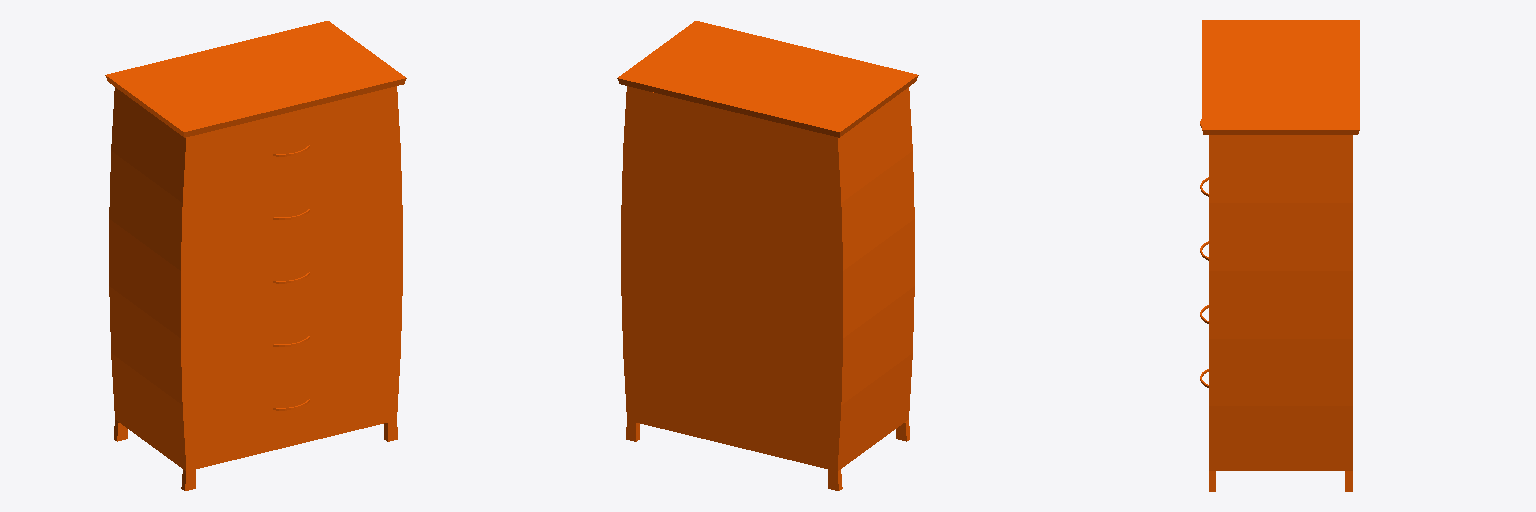
URDF robot description (Dresser_1f0b5514d93f39ebd189eb81471216ad):
<?xml version="1.0" ?>
<robot name="Dresser_1f0b5514d93f39ebd189eb81471216ad">
   <material name="obj_color">
      <color rgba="1.0 0.423529411765 0.0392156862745 1.0"/>
   </material>
   <link name="top">
      <inertial>
         <origin rpy="0.0001219095912646968 0.0002526962717695788 0.0003095374091967418" xyz="0.0001630000000000008 0.000441054785803584 -0.006669401944639916"/>
         <mass value="0.2550115075181789"/>
         <inertia ixx="0.0002526962717695788" ixy="-5.826453439670389e-22" ixz="-4.559833126698565e-22" iyy="0.0003095357299612763" iyz="-5.613095994123296e-07" izz="0.0001219112705001625"/>
      </inertial>
      <visual>
         <origin rpy="0 0 0" xyz="0 0 0"/>
         <geometry>
            <mesh filename="top_watertight_tiny.stl" scale="1 1 1"/>
         </geometry>
         <material name="obj_color"/>
      </visual>
      <collision>
         <origin rpy="0 0 0" xyz="0 0 0"/>
         <geometry>
            <mesh filename="top_watertight_tiny.obj" scale="1 1 1"/>
         </geometry>
      </collision>
   </link>
   <link name="bottom">
      <inertial>
         <origin rpy="1.633333333199431e-08 1.633333333199431e-08 1.633333333362855e-08" xyz="0.3464080000000008 0.3464080000000008 0.3464080000000008"/>
         <mass value="0.0009800000000000017"/>
         <inertia ixx="1.633333333253906e-08" ixy="5.447480642029219e-19" ixz="5.447480642029219e-19" iyy="1.633333333253906e-08" iyz="5.447480642029219e-19" izz="1.633333333253906e-08"/>
      </inertial>
      <visual>
         <origin rpy="0 0 0" xyz="0 0 0"/>
         <geometry>
            <mesh filename="bottom_watertight_tiny.stl" scale="1 1 1"/>
         </geometry>
         <material name="obj_color"/>
      </visual>
   </link>
   <joint name="rotation" type="revolute">
      <origin xyz="0 0 0"/>
      <axis xyz="0 0 -1"/>
      <parent link="bottom"/>
      <child link="top"/>
      <dynamics damping="1.0" friction="1.0"/>
      <limit effort="0.1" velocity="0.1" lower="0" upper="0.001"/>
   </joint>
</robot>

--- What the picture shows (computed from the rendered views, not written in the file) ---
3 views of the same robot in one strip: view 1: azimuth 30°, elevation 25°; view 2: azimuth 150°, elevation 25°; view 3: azimuth 270°, elevation 25° (orthographic).
Robot: Dresser_1f0b5514d93f39ebd189eb81471216ad — 2 links, 1 joints (1 revolute); root link bottom; default pose: every joint at zero.
Links seen in each view (by area): view 1: top; view 2: top; view 3: top.
Boxes of the visible links, x1,y1,x2,y2 form: top: (105,21,406,490); top: (617,21,918,490); top: (1200,20,1359,491).
Bounding box of the posed robot: 0.0658 × 0.0406 × 0.1023 m (x, y, z).
1 mesh visuals loaded from 2 distinct referenced files (1 binary STL); not drawn: 1 (reference not matched to a file when rendering).
